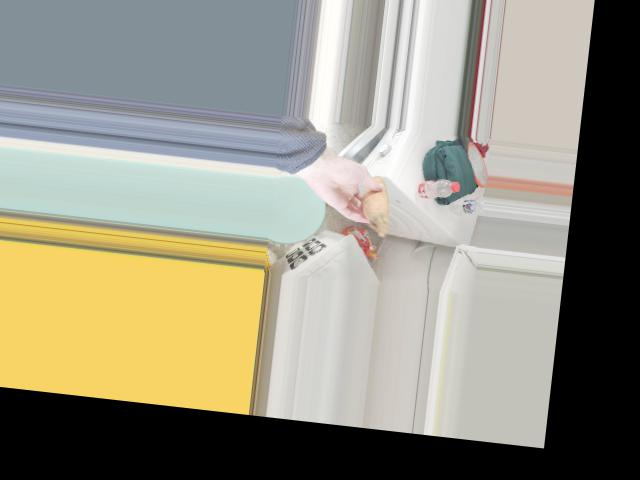sweet_potato: (362, 178, 393, 225)
